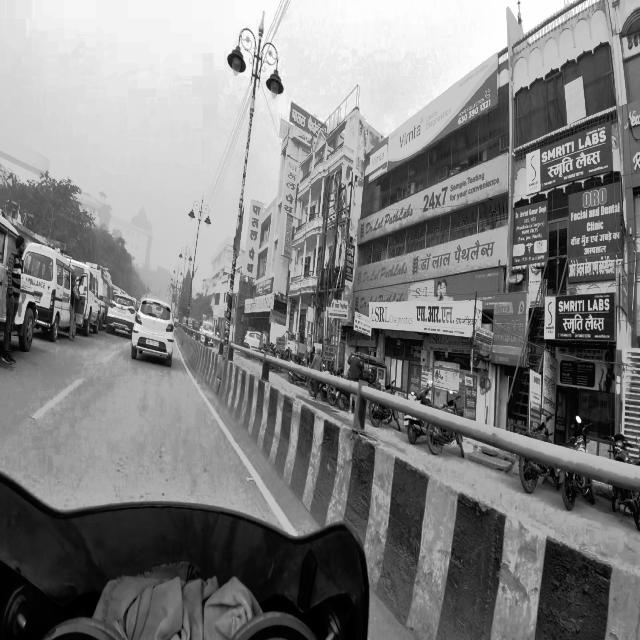Car: (130, 288, 179, 378), (74, 257, 101, 337), (105, 296, 138, 334)
LCV: (26, 244, 78, 342)
